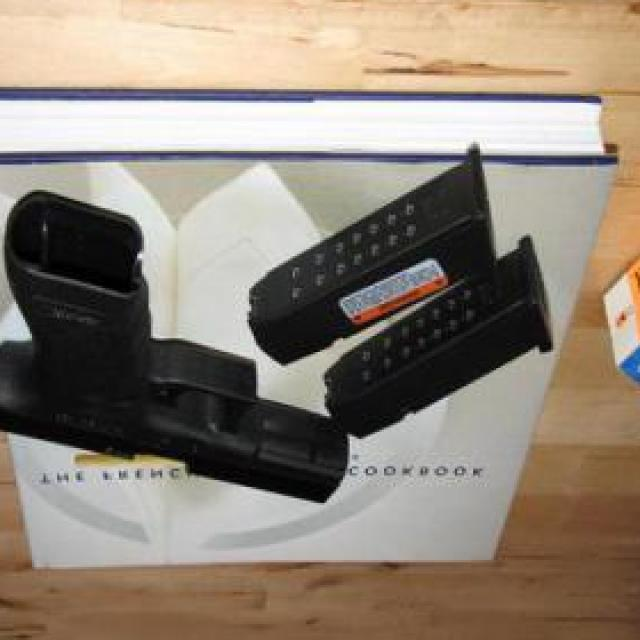pistol: (0, 195, 347, 508)
